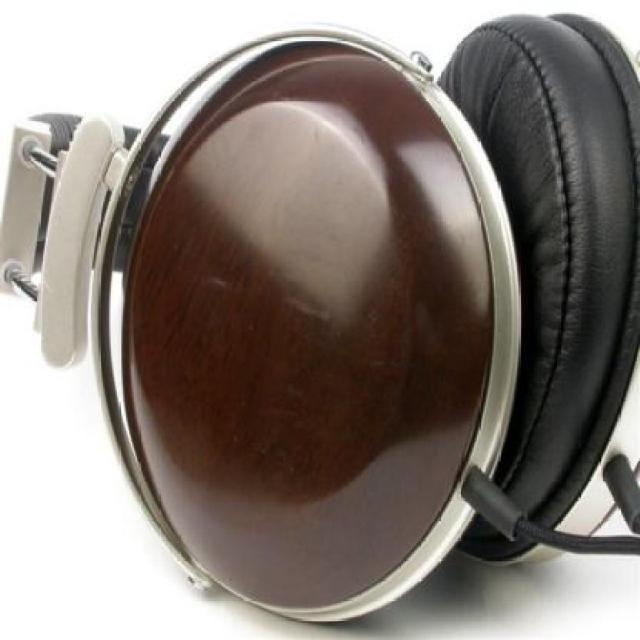earphone: (0, 70, 618, 596)
